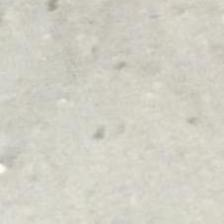Non_Crack: (18, 37, 224, 207)
